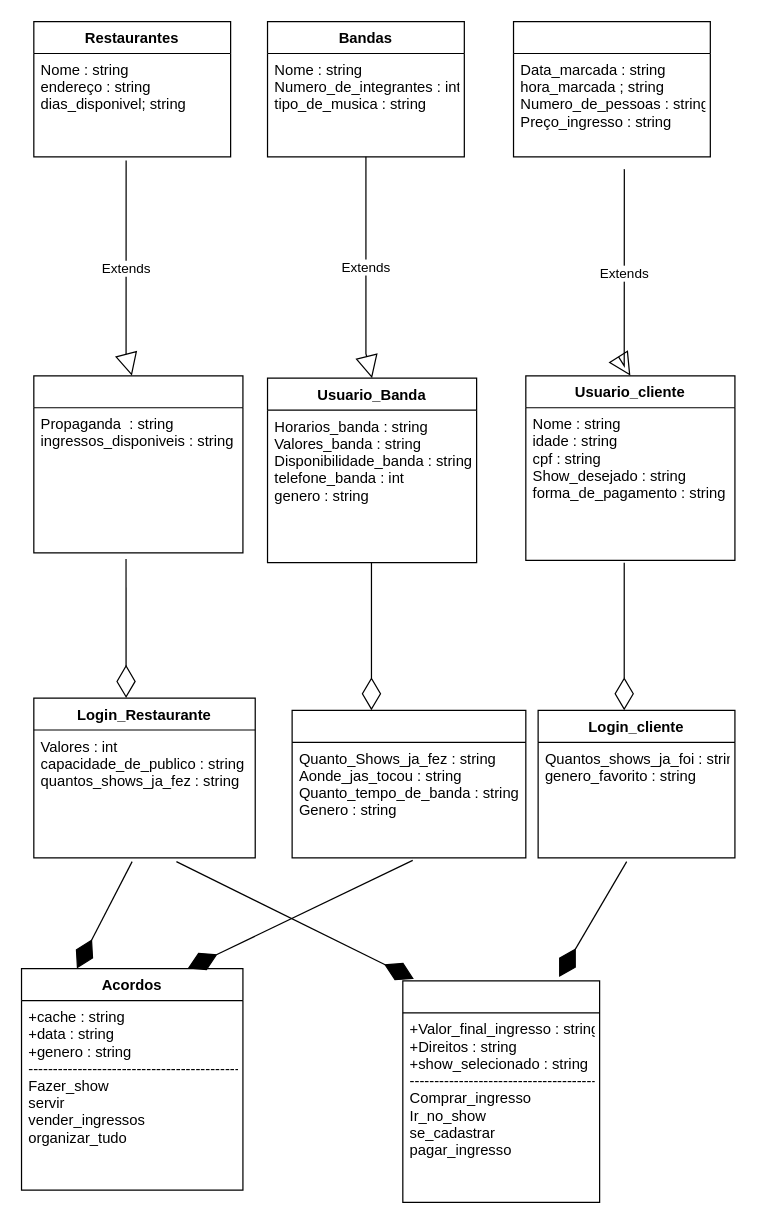
Some shapes in this 763 by 1228 pixel diagram are drawn without their labels. The shapes that lost their labels are listed below. From the top down, each one's box as (x1, y1, x2, y2) in pixels, then its label:
(512, 20, 710, 157): Shows
(33, 375, 243, 553): Usuario_Locados
(291, 709, 526, 858): Login_Banda
(402, 980, 600, 1202): Compras
